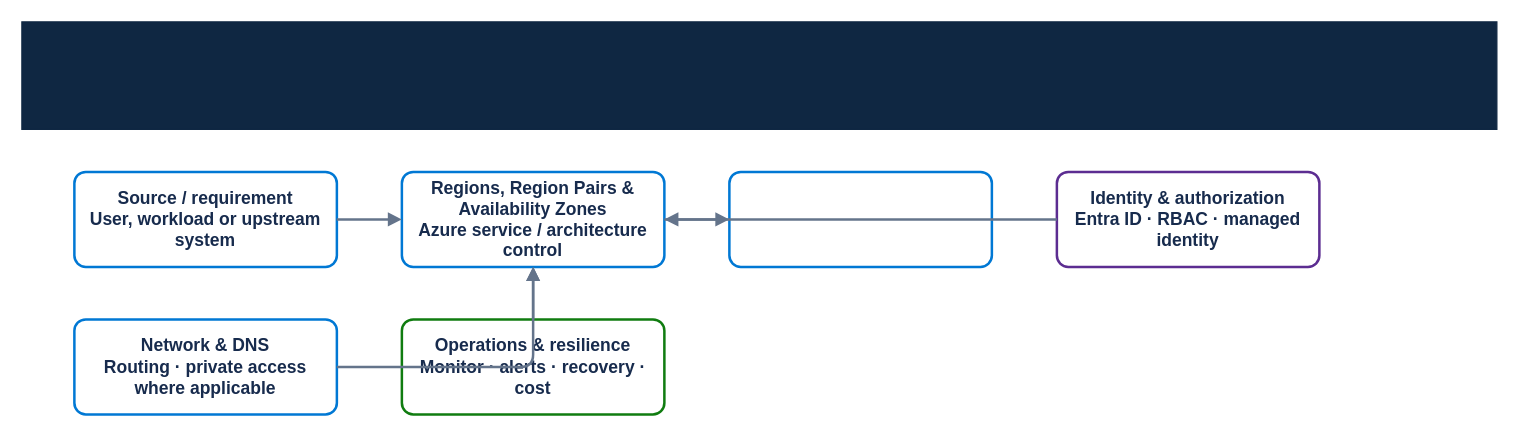
This 1519x438 diagram has some shape labels left out. The centre of each missing label's shape, as x and y in pixels:
"Regions, Region Pairs & Availability Zones" goes at point (759, 75).
"Workload / consumer Application, data or operational outcome" goes at point (860, 219).
